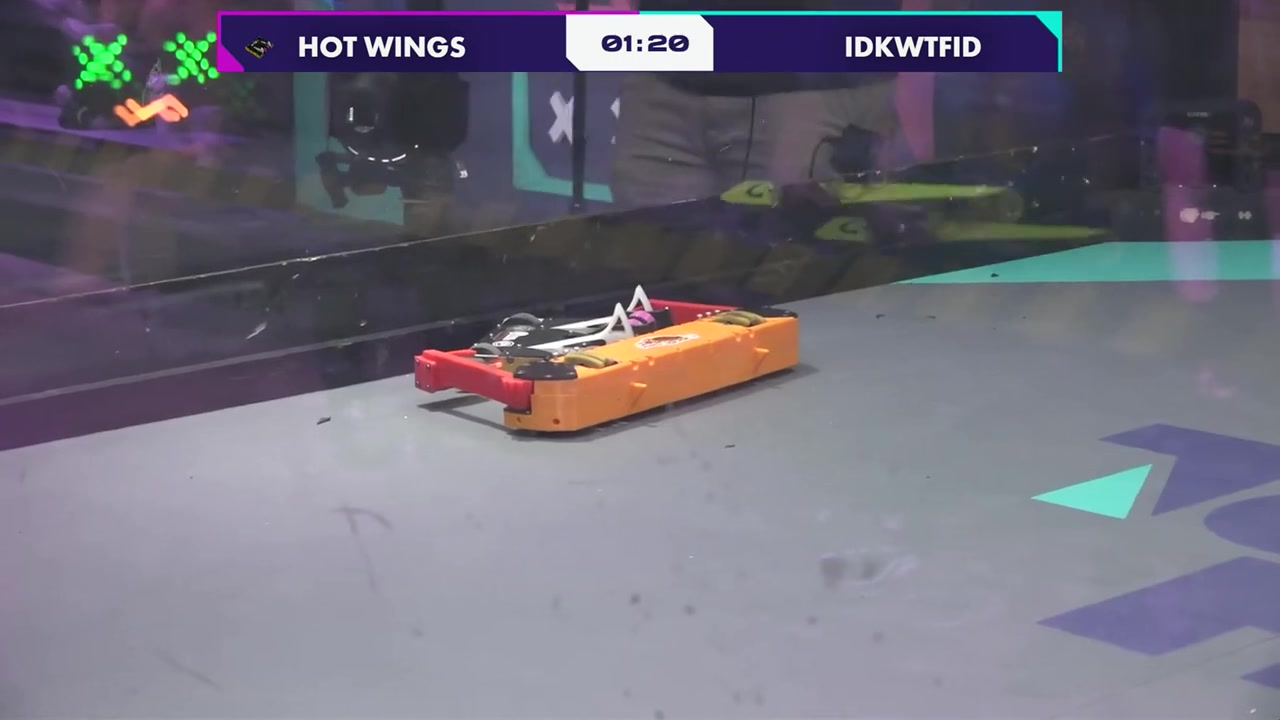combatbot: (415, 286, 801, 436)
